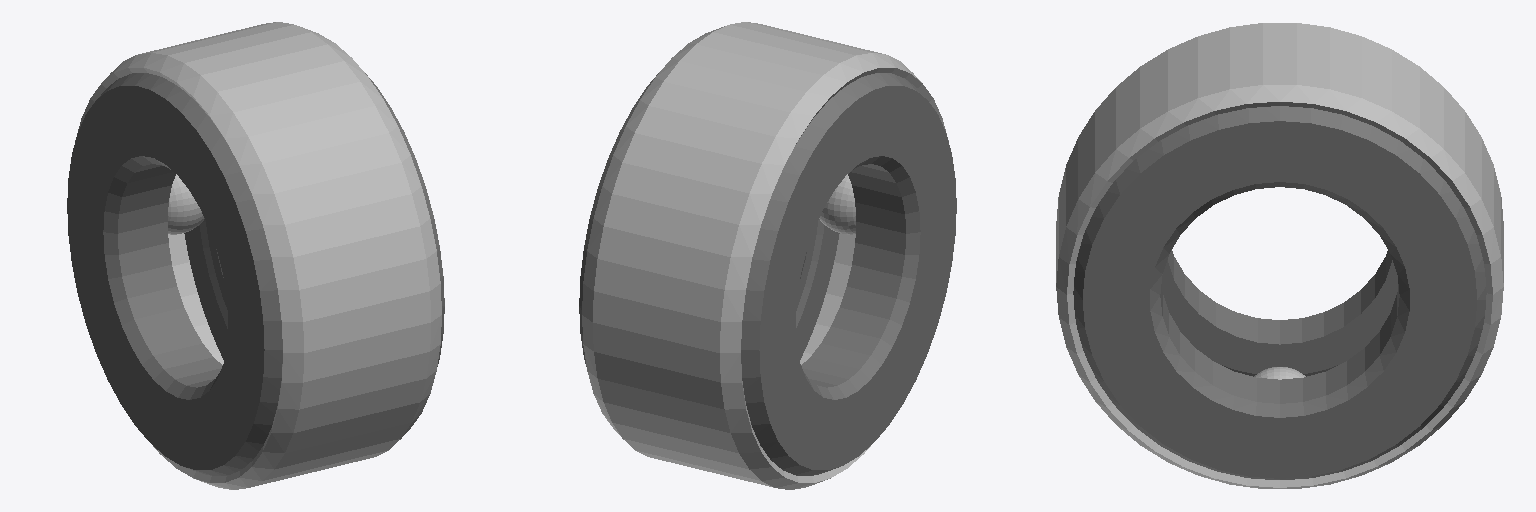
3 views of the same model, side by side, from view 1: azimuth 30°, elevation 25°; view 2: azimuth 150°, elevation 25°; view 3: azimuth 270°, elevation 25° (orthographic).
Parts seen in each view (by area): view 1: [number redacted]_7, [number redacted]_1, [number redacted]_6, [number redacted]_4; view 2: [number redacted]_7, [number redacted]_1, [number redacted]_6, [number redacted]_2; view 3: [number redacted]_6, [number redacted]_7, [number redacted]_1.
Boxes of the visible parts, x1,y1,x2,y2 form: [number redacted]_7: [75, 22, 441, 489]; [number redacted]_1: [67, 73, 282, 475]; [number redacted]_6: [184, 73, 444, 366]; [number redacted]_4: [168, 174, 204, 234]; [number redacted]_7: [582, 22, 948, 489]; [number redacted]_1: [741, 73, 956, 475]; [number redacted]_6: [579, 73, 839, 366]; [number redacted]_2: [819, 174, 855, 234]; [number redacted]_6: [1073, 106, 1486, 479]; [number redacted]_7: [1056, 23, 1503, 488]; [number redacted]_1: [1162, 250, 1397, 376].
Size of the model in its own units: 15.88 by 34.04 by 34.14.